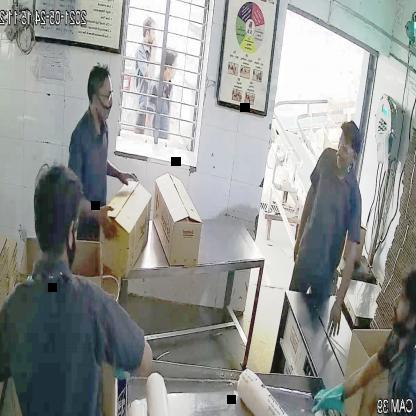goggles: (335, 134, 361, 160), (88, 86, 117, 105)
